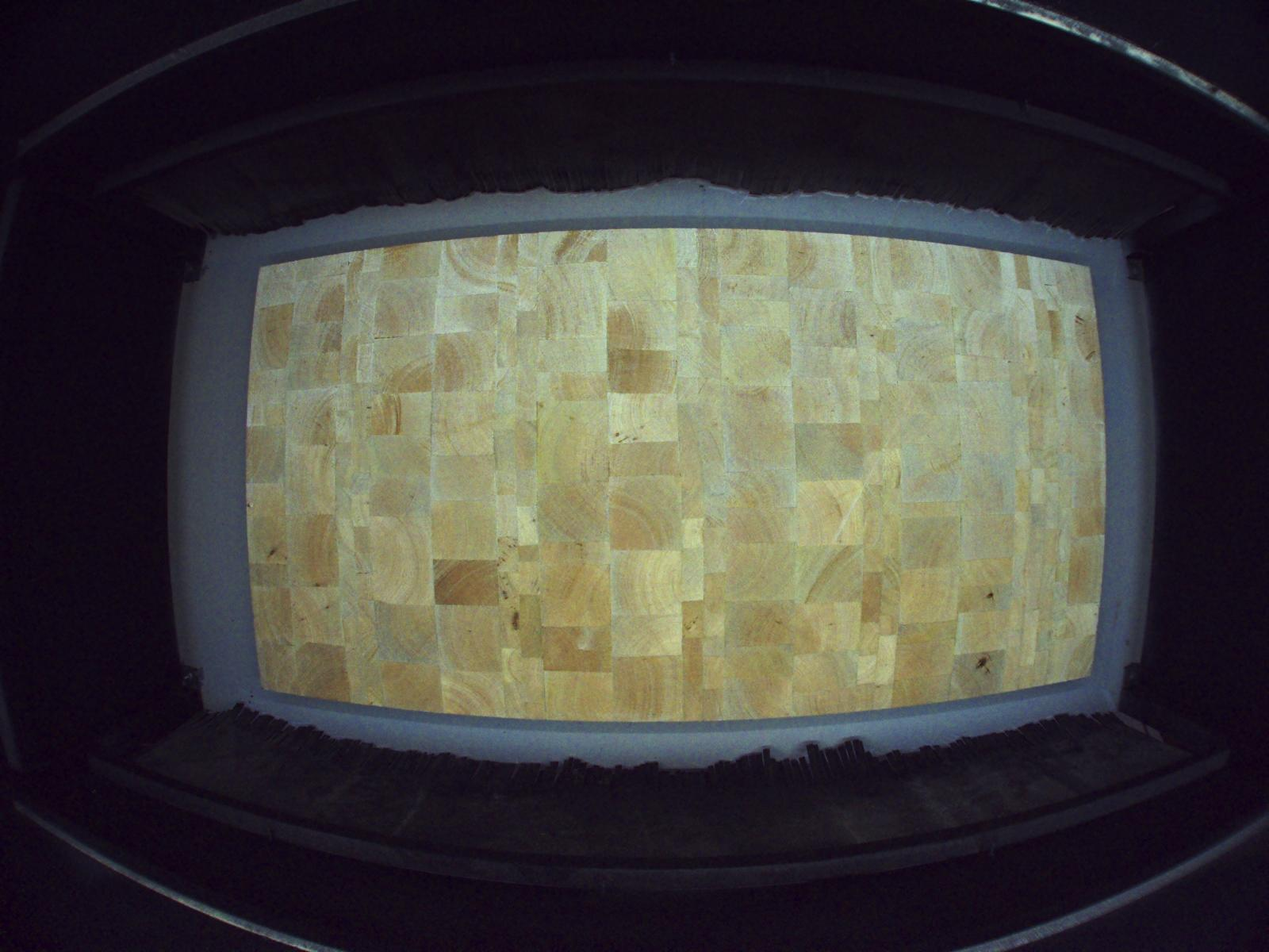sheck_ecuatoriano: (973, 654, 992, 675)
